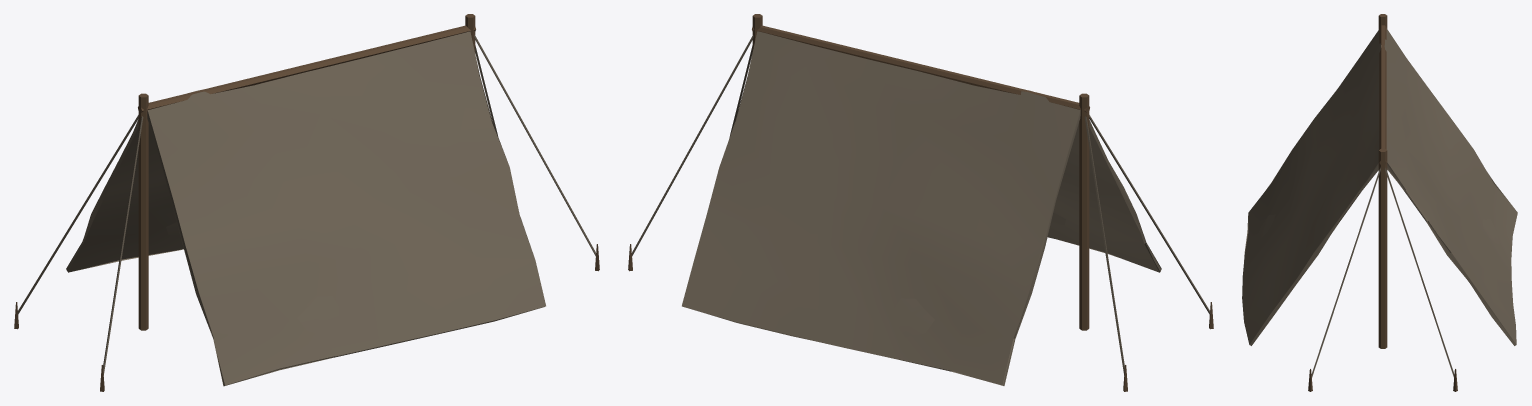
File: tent_old.glb
3 views of the same model, side by side, from view 1: azimuth 30°, elevation 25°; view 2: azimuth 150°, elevation 25°; view 3: azimuth 270°, elevation 25° (orthographic). The views are drawn at different scales.
Parts seen in each view (by area): view 1: tent_old; view 2: tent_old; view 3: tent_old.
Boxes of the visible parts, x1=… form: tent_old: x1=14, y1=14, x2=599, y2=391; tent_old: x1=628, y1=14, x2=1213, y2=391; tent_old: x1=1242, y1=14, x2=1517, y2=391.
Size of what is drawn, in the model's own units: 4.04 by 1.88 by 2.28.
